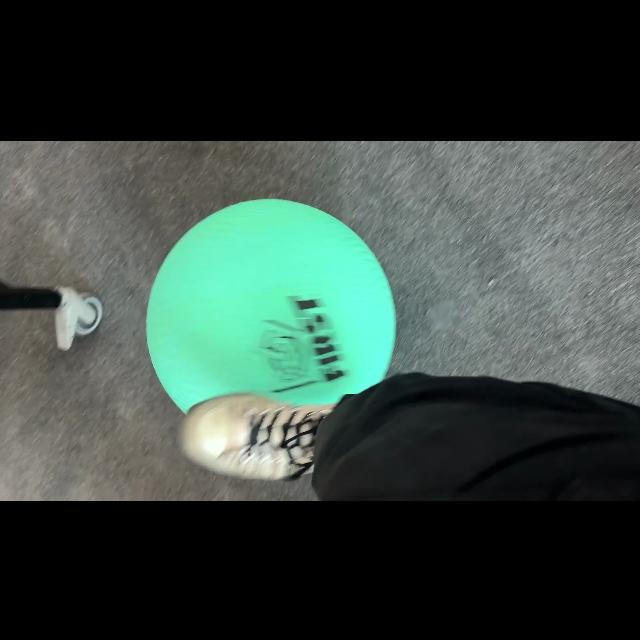ALGAE: (145, 197, 397, 415)
